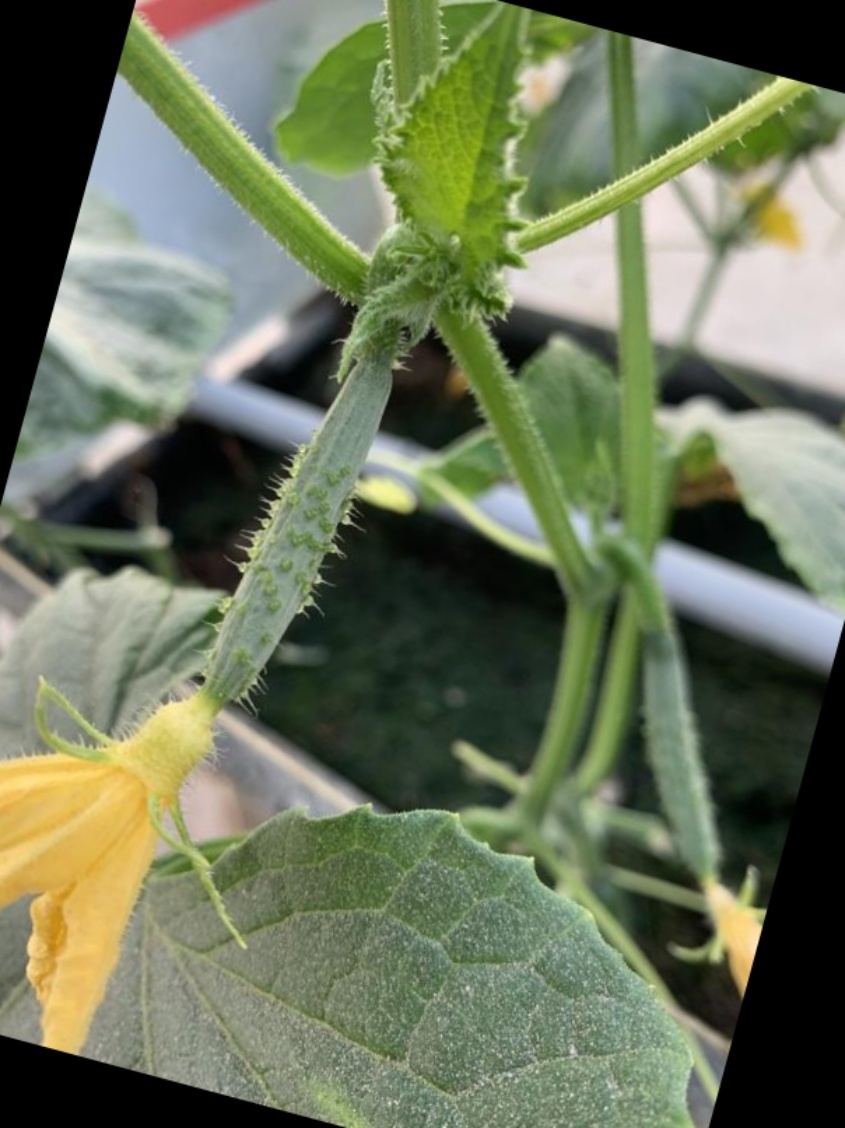bear: (0, 271, 439, 1004)
